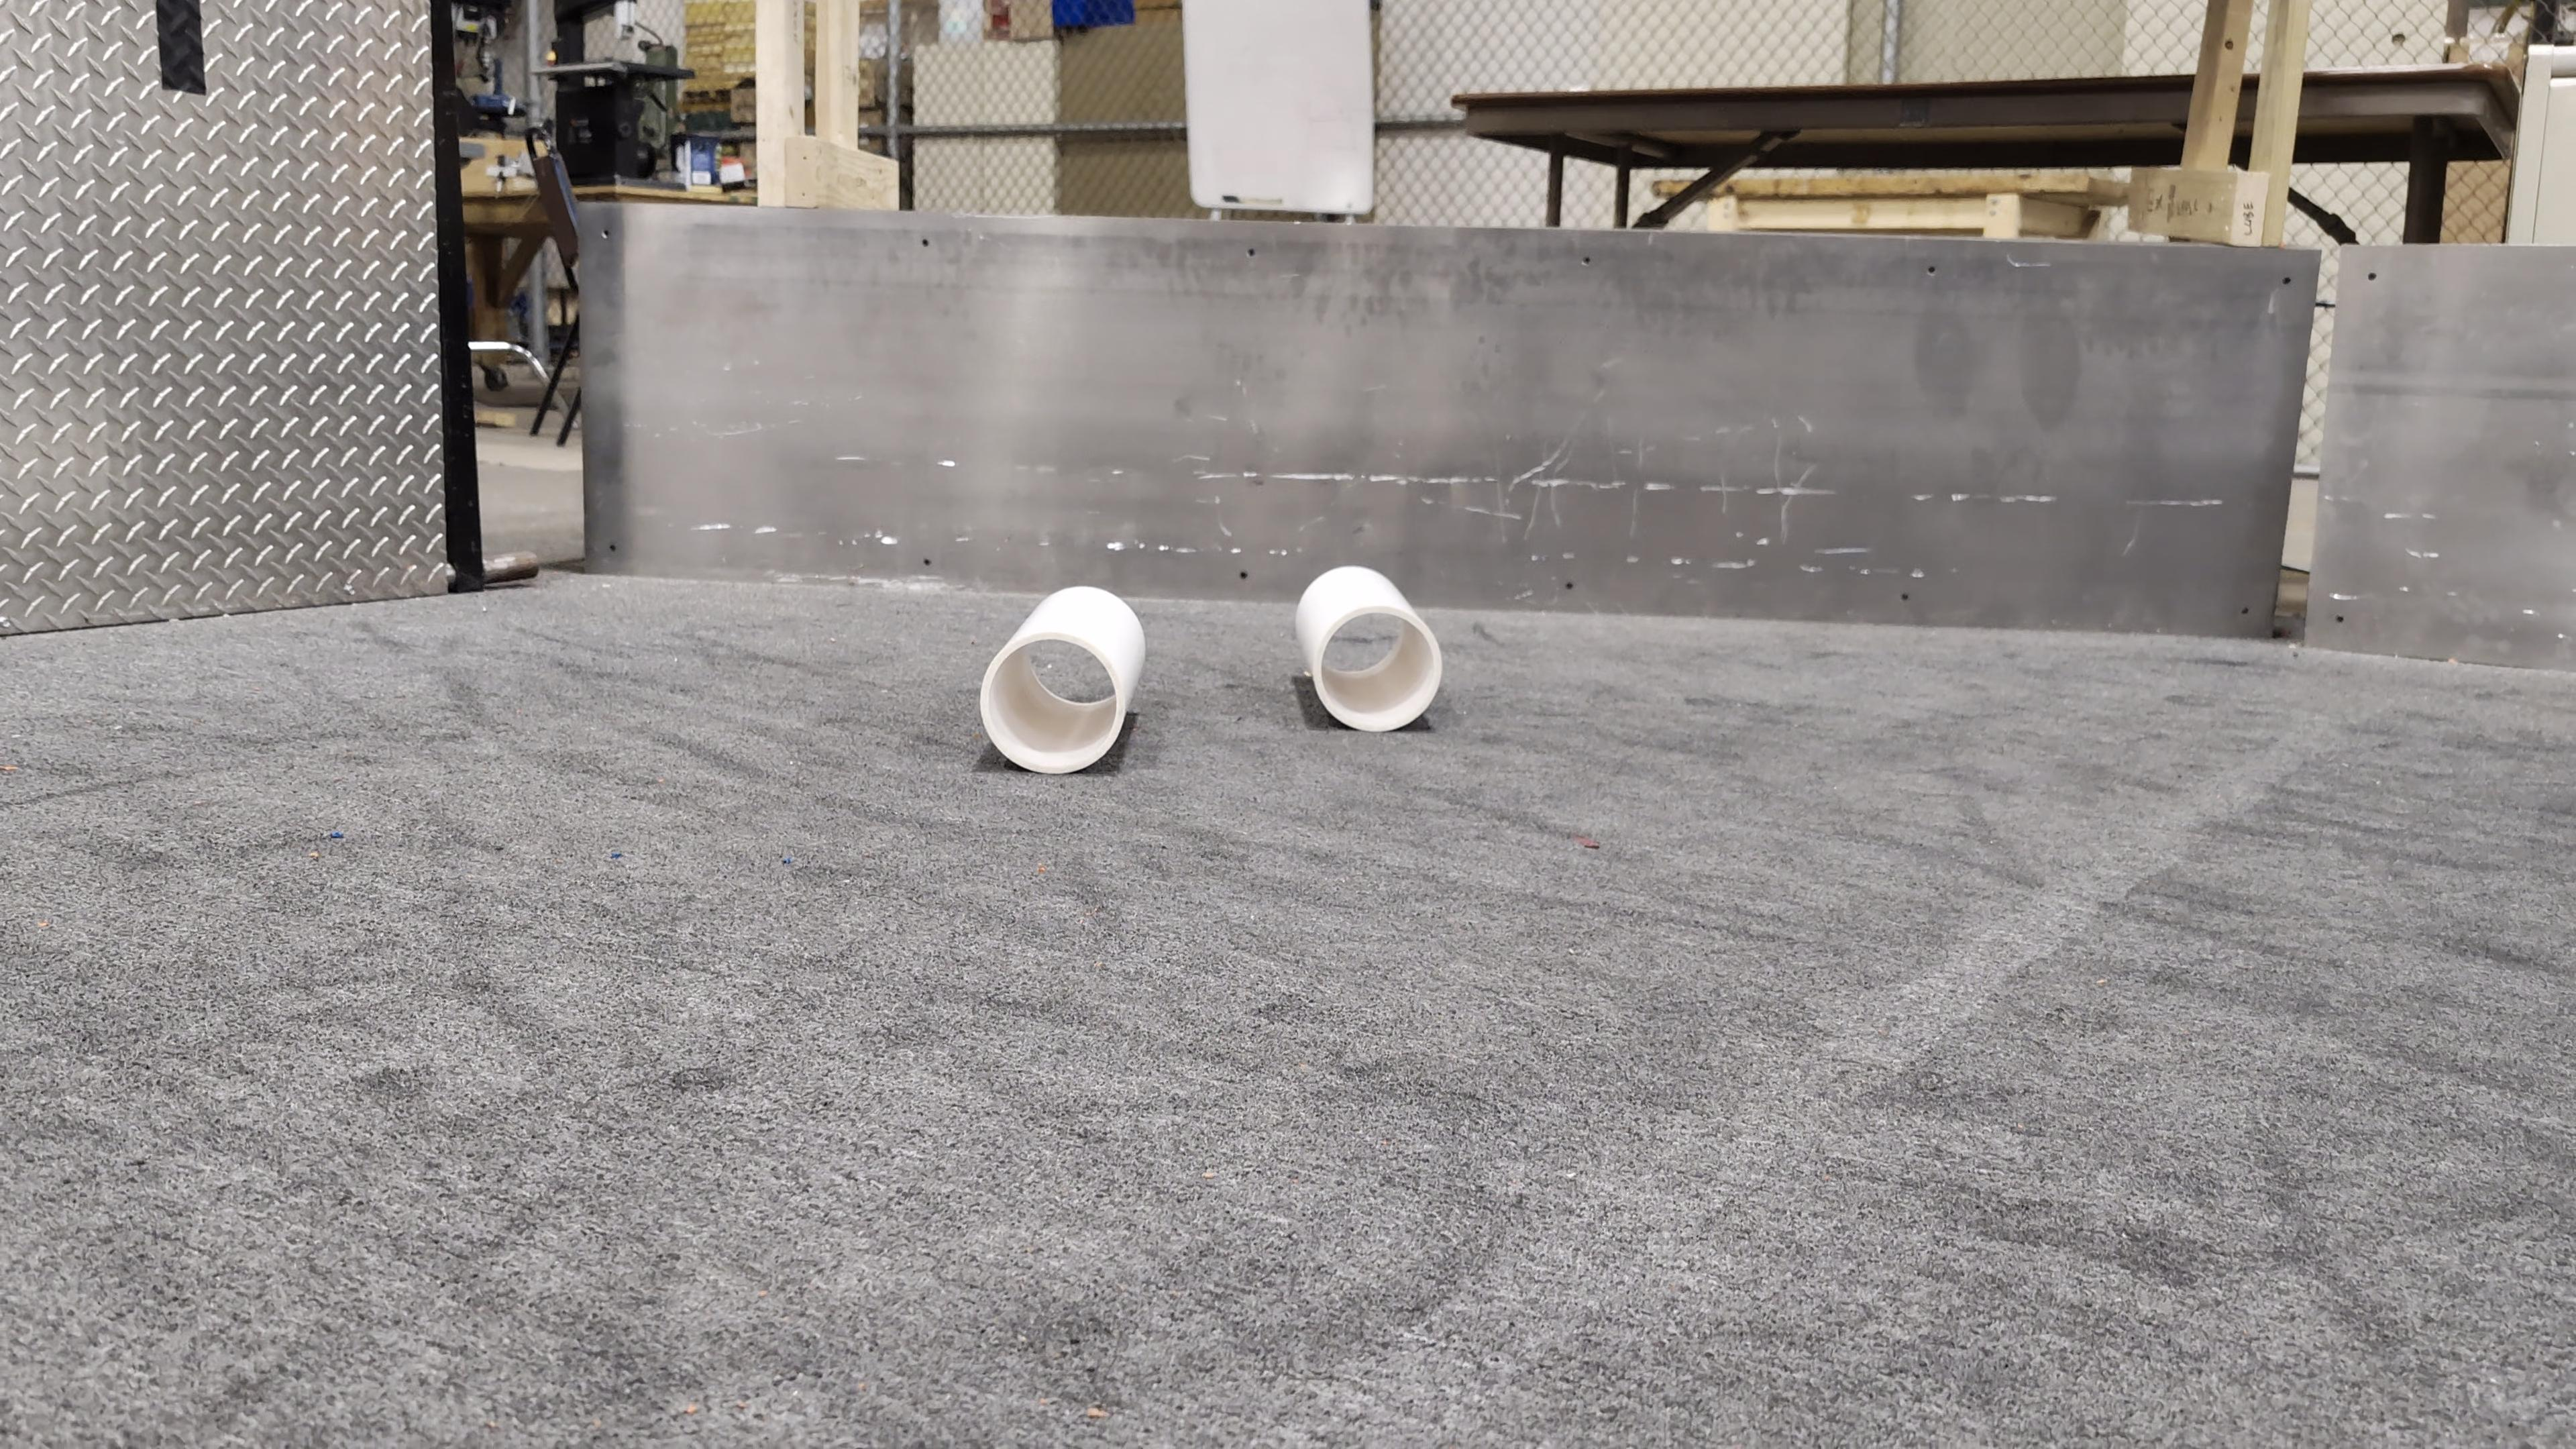coral: (978, 582, 1146, 775), (1295, 557, 1445, 732)
